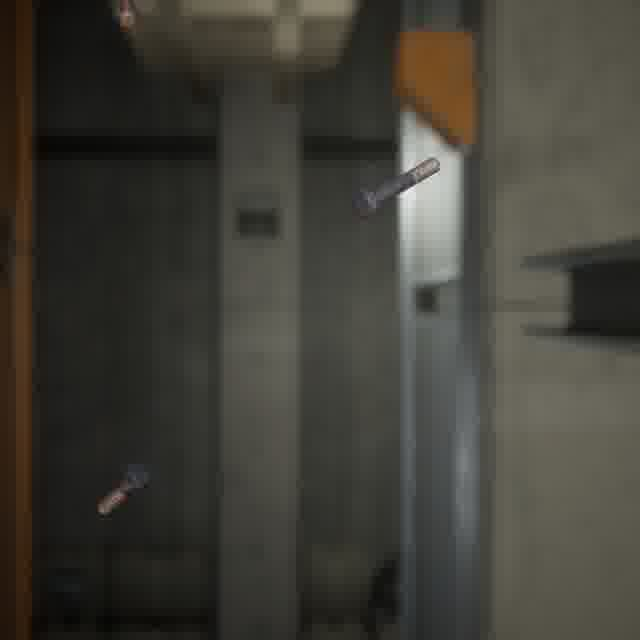bolt: (348, 154, 444, 223), (93, 458, 156, 519), (109, 0, 145, 31)
